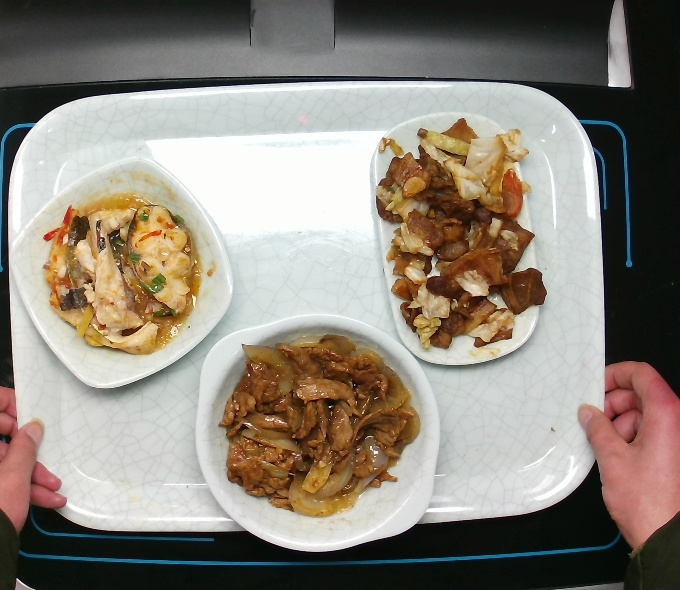wcq-DuoJiaoYuKuai: (47, 190, 197, 355)
wcq-PaoCaiRouPian: (378, 123, 539, 355)
wcq-YangCongRouPian: (225, 335, 412, 528)
